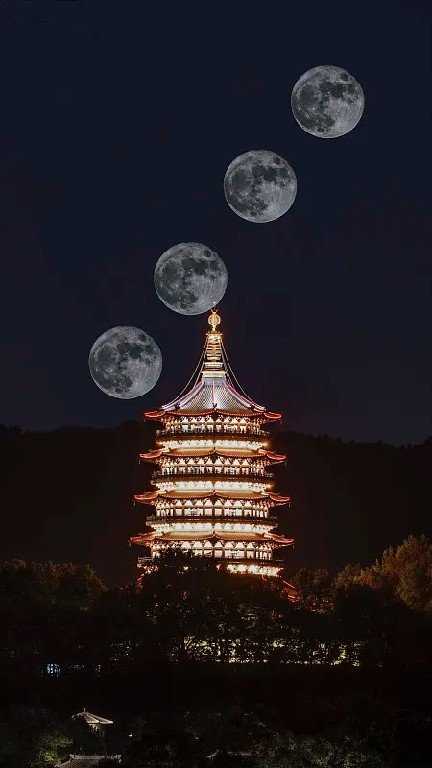Leifeng: (128, 297, 298, 605)
